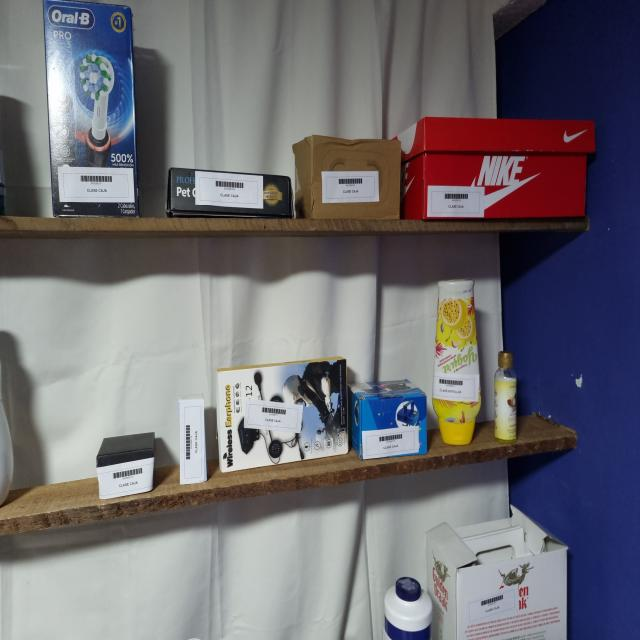botella: (430, 279, 484, 444), (384, 577, 432, 640), (494, 351, 517, 442)
caja: (43, 0, 139, 218), (393, 117, 595, 220), (426, 507, 568, 640), (217, 358, 348, 471), (293, 135, 401, 220), (166, 168, 294, 218), (349, 379, 427, 459), (96, 432, 155, 499), (178, 396, 207, 485)
